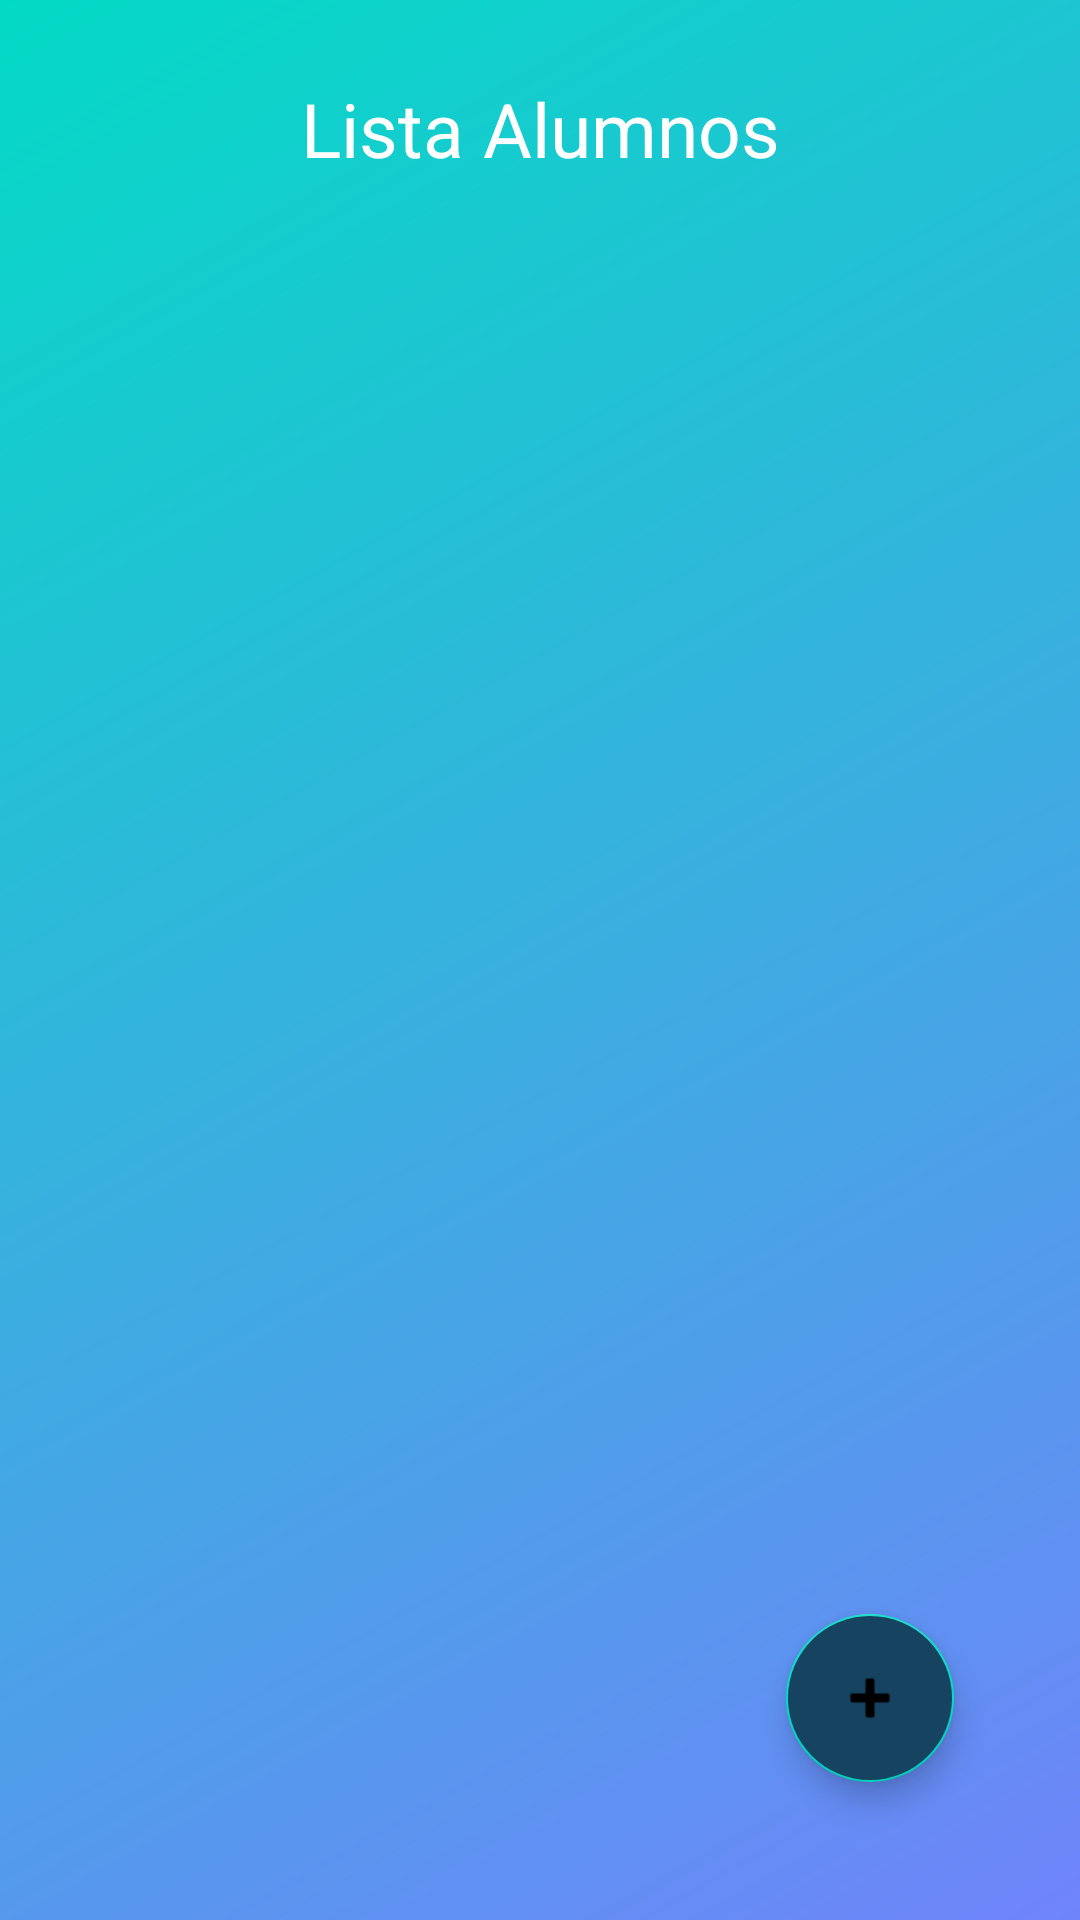

Where to tap for icons on this 1080×1920 app screen, as (x,y):
add: (870,1698)
